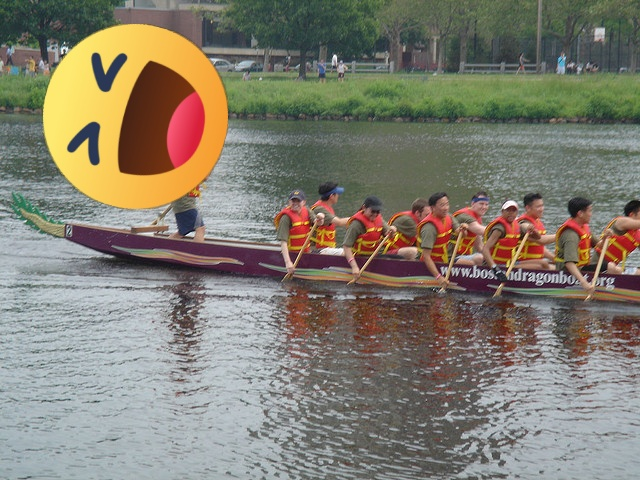haha: (43, 24, 228, 209)
